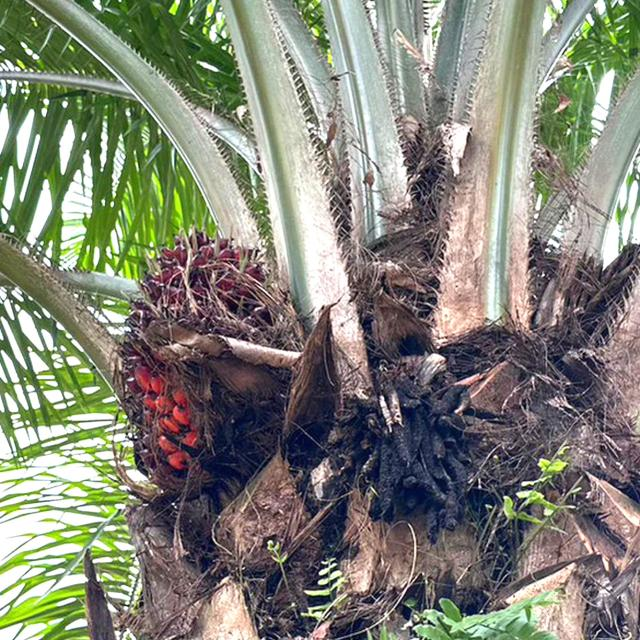ripe: (117, 225, 306, 497)
